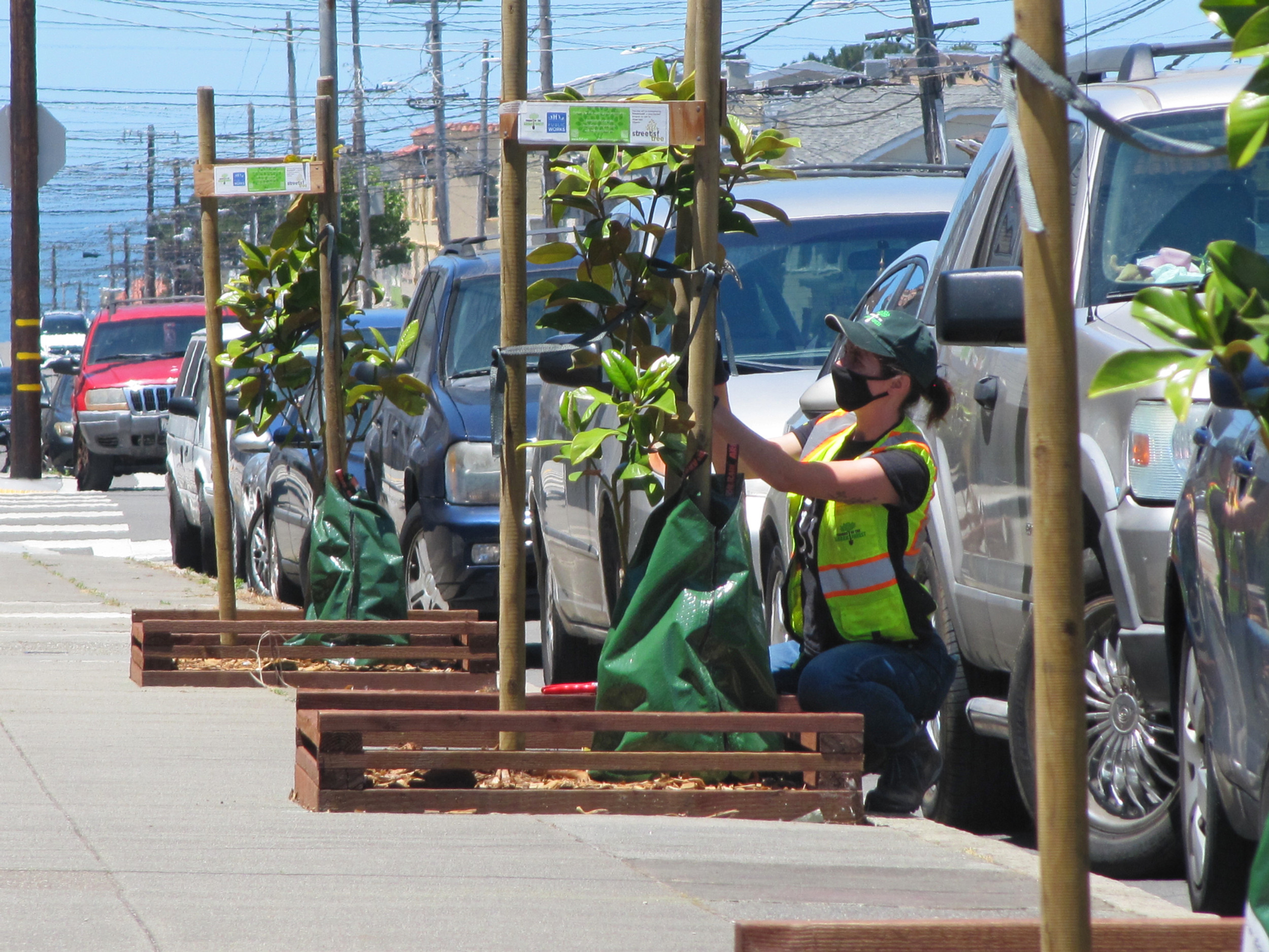Car: (61, 283, 199, 465)
Crosswalk: (1, 459, 131, 555)
Person: (761, 298, 969, 812)
